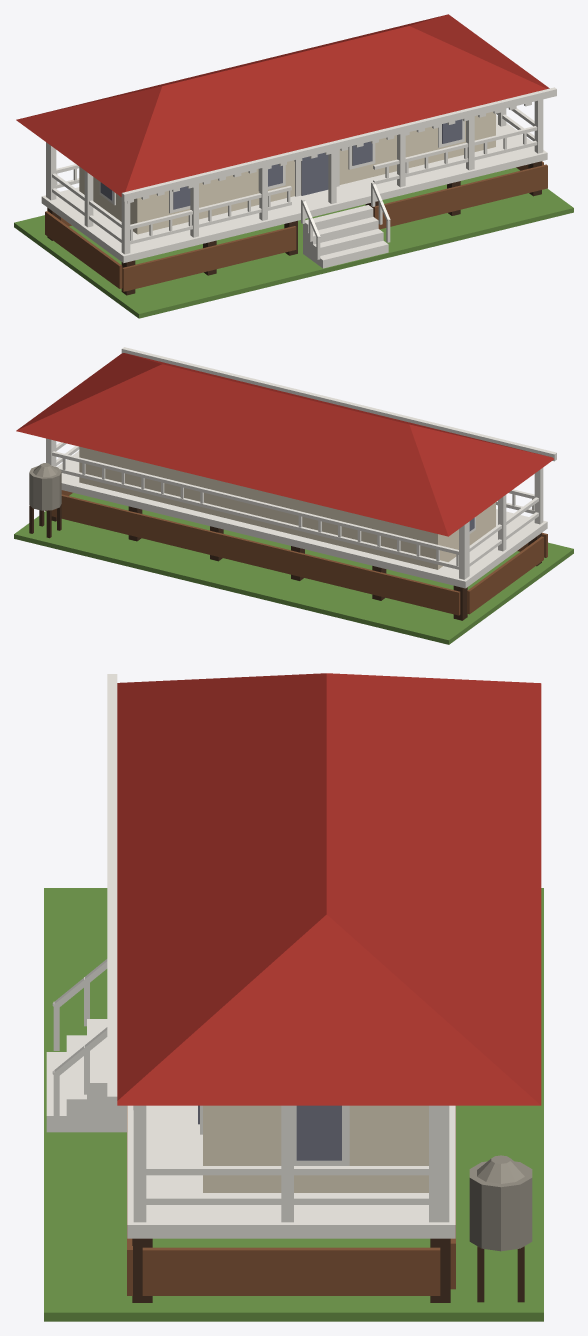
The model's file is house-2x1-1f-queenslander-a.glb.
3 renders of one model, top to bottom at view 1: azimuth 30°, elevation 25°; view 2: azimuth 150°, elevation 25°; view 3: azimuth 270°, elevation 25°, orthographic. The views are drawn at different scales.
Visible parts, largest first — view 1: house-2x1-1f-queenslander-a; view 2: house-2x1-1f-queenslander-a; view 3: house-2x1-1f-queenslander-a.
Boxes of the visible parts, x1=… form: house-2x1-1f-queenslander-a: x1=14, y1=14, x2=573, y2=318; house-2x1-1f-queenslander-a: x1=14, y1=347, x2=573, y2=644; house-2x1-1f-queenslander-a: x1=44, y1=673, x2=543, y2=1321.
Bounding box in the file's own units: 1.99 × 0.69 × 0.99.
Materials: 1 (1 with a texture image).
